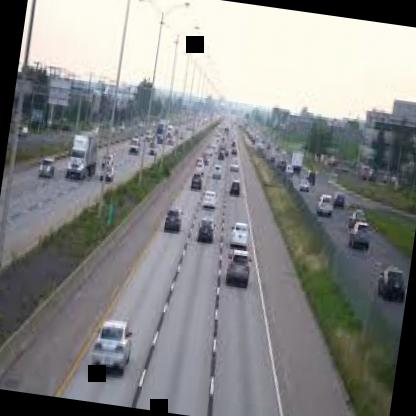car: (84, 320, 139, 384), (60, 128, 100, 196), (223, 207, 262, 259), (344, 200, 376, 262), (372, 261, 410, 306), (223, 241, 256, 290), (29, 142, 62, 187), (162, 201, 188, 245), (191, 212, 219, 250), (346, 224, 374, 262), (308, 190, 337, 225), (184, 166, 210, 194), (200, 186, 220, 218), (223, 176, 246, 202), (99, 158, 119, 186), (125, 130, 142, 158), (331, 183, 348, 210), (295, 175, 312, 198), (210, 160, 226, 182), (282, 158, 296, 180), (228, 158, 243, 175), (305, 168, 318, 186)
